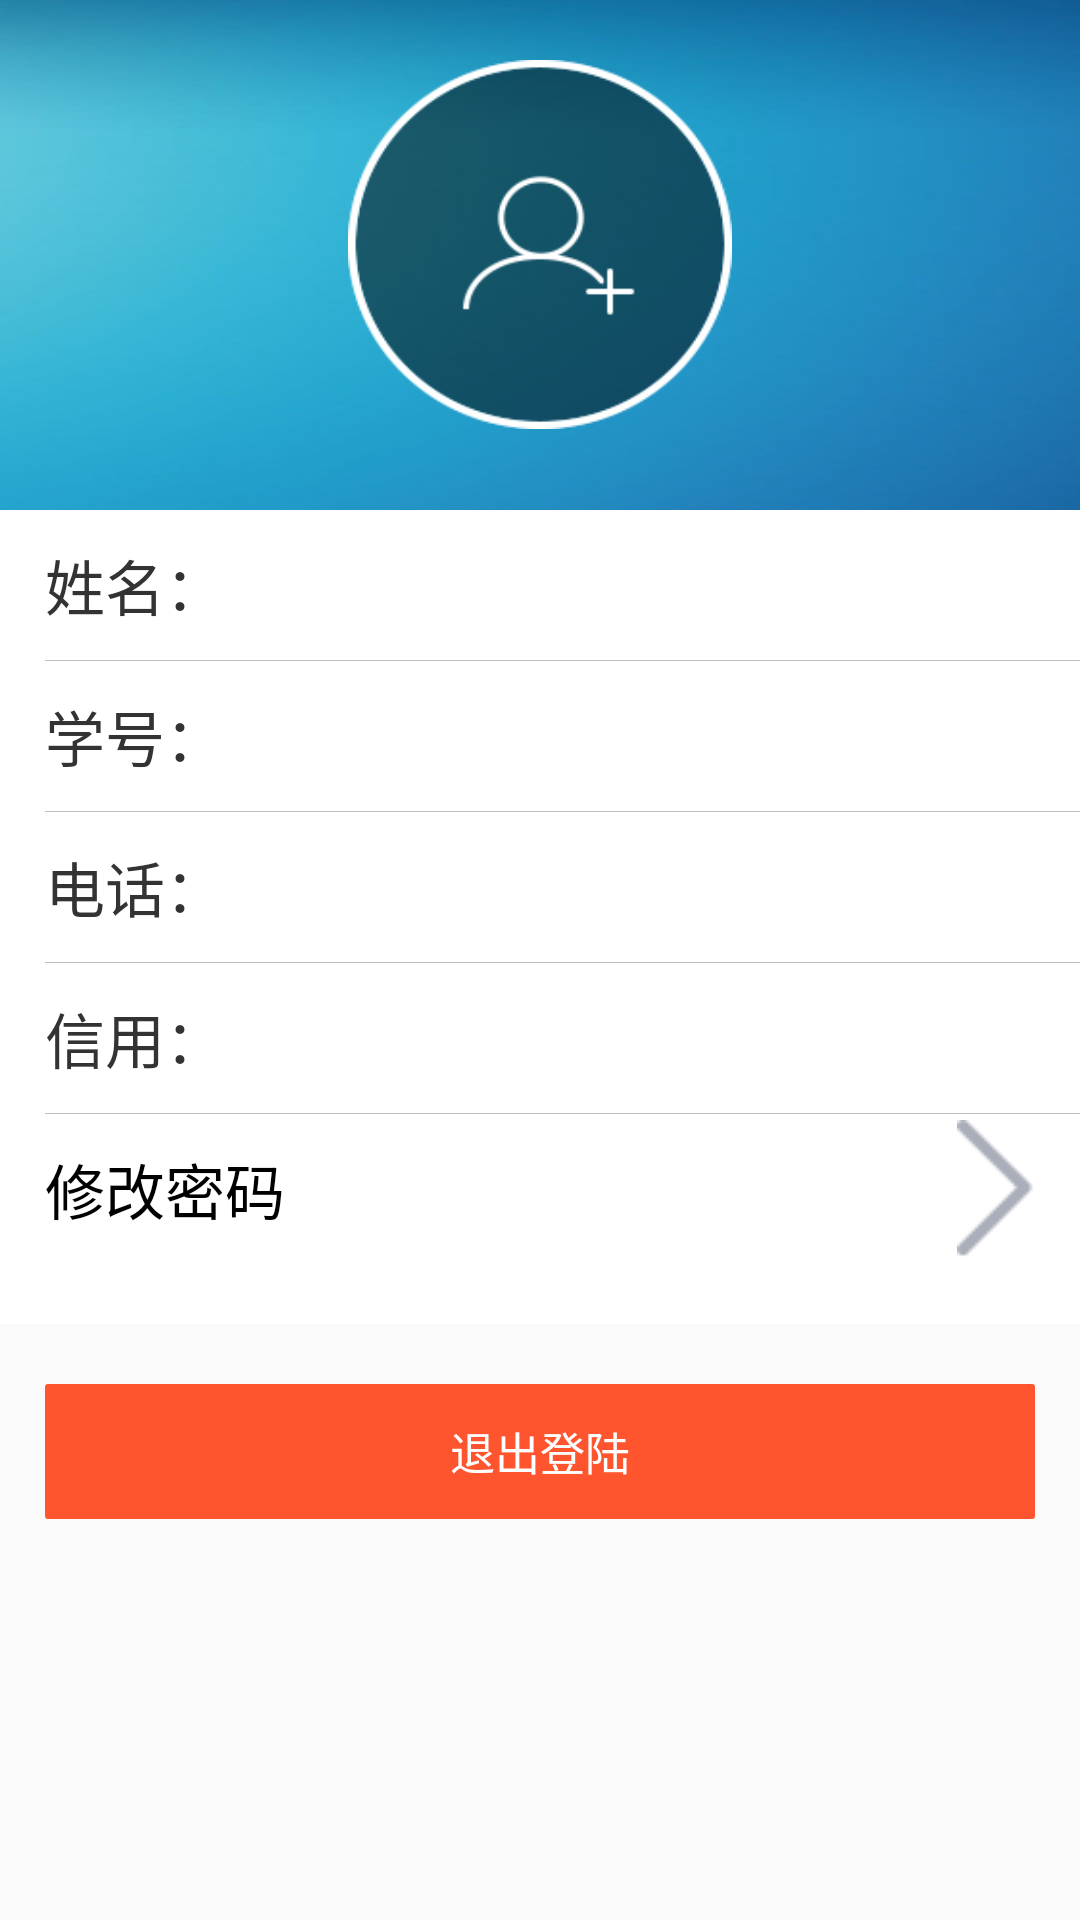

Screen size 1080 x 1920. Icon name, then its center in pixels as point (x, y):
selecte bank right: point (994, 1188)
